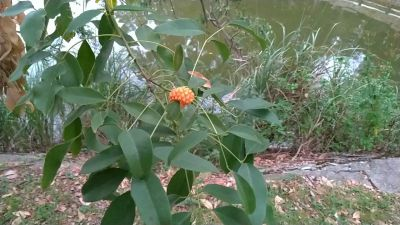eggs: (170, 82, 196, 109)
